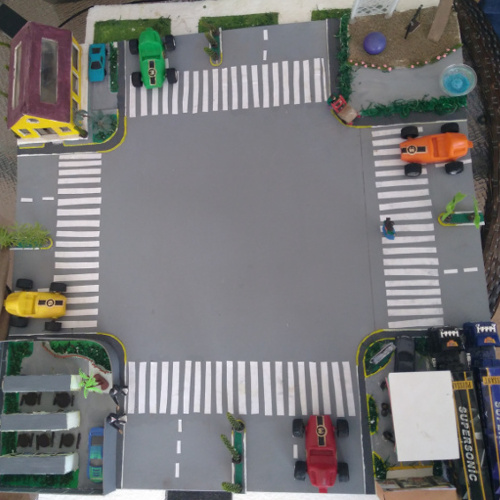amarillo: (1, 277, 68, 330)
naranja: (396, 121, 474, 177)
rojo: (292, 415, 348, 490)
verde: (127, 26, 177, 89)
